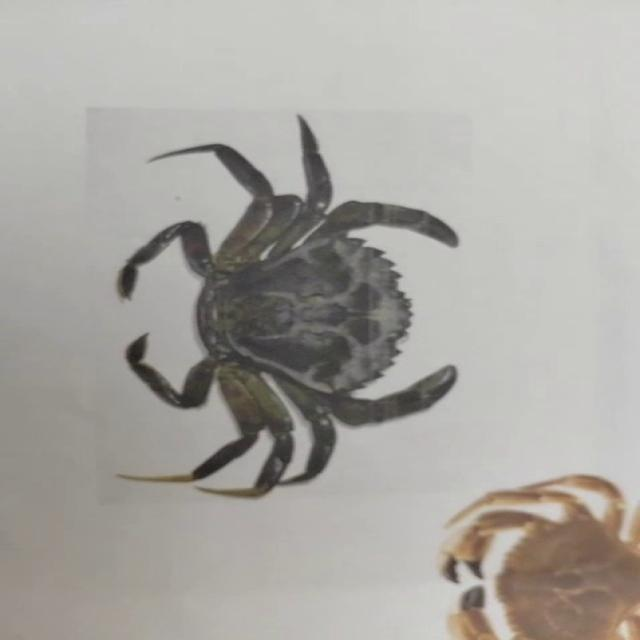egc: (118, 116, 458, 497)
